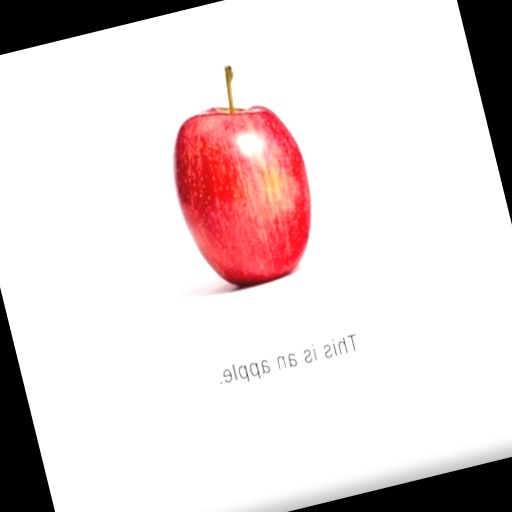fruit: (186, 59, 437, 345)
